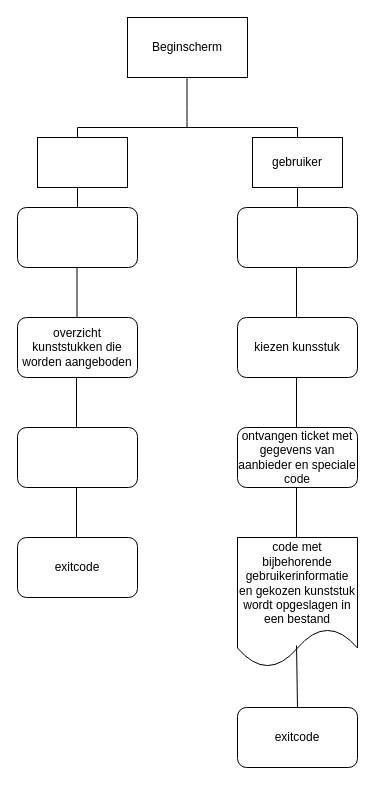
Image size: 375x785. Some labels were removed from this diagram. The shapes that lost their labels are listed below. From the top down, each one's centre as x and y in pixels, then its label:
the point at 82,162: galeriehouder
the point at 77,237: aanmeldvenster met veilig wachtwoord
the point at 297,237: invoeren naam en emailadres
the point at 77,457: overzicht van alle gebruikers die willen komen kijken
